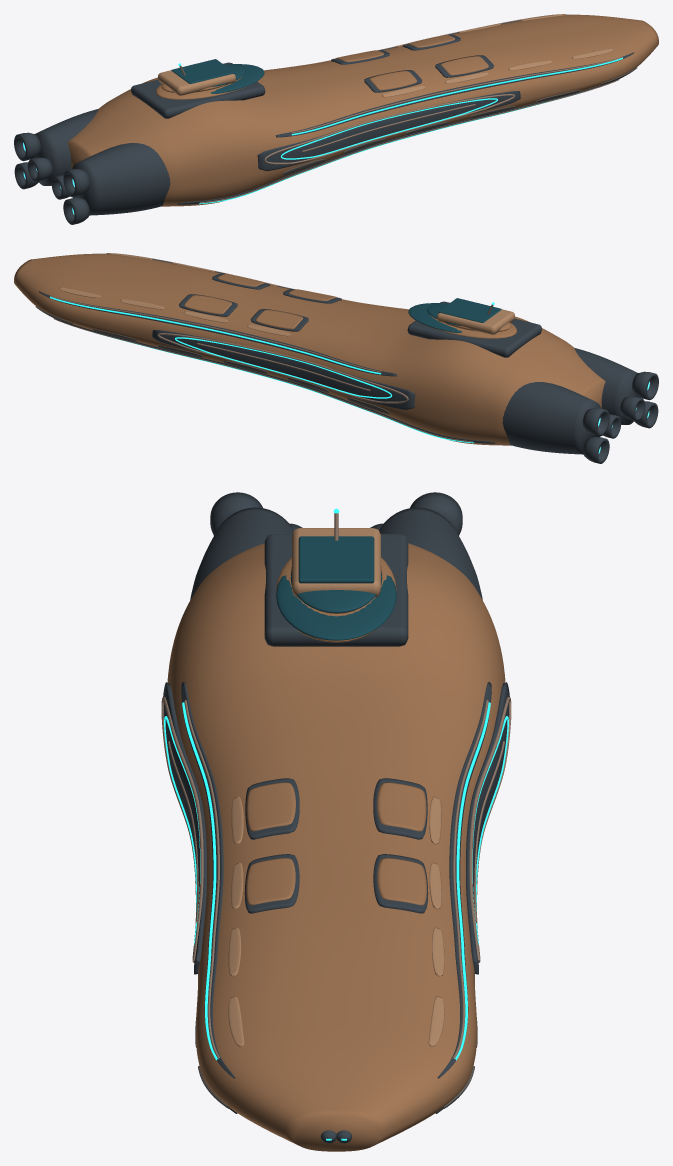
Rendered from artillery-dreadnought.glb.
3 views of the same model, one above another, from view 1: azimuth 30°, elevation 25°; view 2: azimuth 150°, elevation 25°; view 3: azimuth 270°, elevation 25° (orthographic). The views are drawn at different scales.
Visible parts, largest first — view 1: Continuous pressure hull, Aft propulsion / integrated nacelle, Lateral artillery recess / contoured housing, Aft propulsion / integrated nacelle.001, Bridge / stepped armor deck, Upper data conduit / seated channel, Lateral artillery recess / bronze bezel, Bridge / armored watch deck, Bridge / observation belt, Lower data conduit / seated channel, Lateral artillery recess / cyan inset, Upper data conduit / cyan inset (+16 smaller); view 2: Continuous pressure hull, Aft propulsion / integrated nacelle.001, Lateral artillery recess / contoured housing.001, Aft propulsion / integrated nacelle, Bridge / stepped armor deck, Upper data conduit / seated channel.001, Lateral artillery recess / bronze bezel.001, Bridge / armored watch deck, Bridge / observation belt, Lower data conduit / seated channel.001, Lateral artillery recess / cyan inset.001, Upper data conduit / cyan inset.001 (+16 smaller); view 3: Continuous pressure hull, Bridge / stepped armor deck, Bridge / observation belt, Bridge / glazing, Aft propulsion / integrated nacelle, Aft propulsion / integrated nacelle.001, Lateral artillery recess / contoured housing.001, Lateral artillery recess / contoured housing, Upper data conduit / seated channel, Upper data conduit / seated channel.001, Bridge / armored watch deck, VLS bank / shutter (+14 smaller).
Part boxes in pixels (x1=…): Continuous pressure hull: x1=67, y1=14, x2=658, y2=206; Aft propulsion / integrated nacelle: x1=72, y1=143, x2=170, y2=215; Lateral artillery recess / contoured housing: x1=257, y1=91, x2=520, y2=171; Aft propulsion / integrated nacelle.001: x1=31, y1=109, x2=98, y2=185; Bridge / stepped armor deck: x1=131, y1=62, x2=265, y2=118; Upper data conduit / seated channel: x1=275, y1=52, x2=633, y2=137; Lateral artillery recess / bronze bezel: x1=264, y1=94, x2=515, y2=164; Bridge / armored watch deck: x1=158, y1=70, x2=235, y2=95; Bridge / observation belt: x1=171, y1=59, x2=234, y2=83; Lower data conduit / seated channel: x1=177, y1=79, x2=618, y2=204; Lateral artillery recess / cyan inset: x1=281, y1=98, x2=497, y2=159; Upper data conduit / cyan inset: x1=291, y1=57, x2=622, y2=135; Continuous pressure hull: x1=14, y1=253, x2=605, y2=445; Aft propulsion / integrated nacelle.001: x1=502, y1=382, x2=600, y2=454; Lateral artillery recess / contoured housing.001: x1=152, y1=330, x2=415, y2=410; Aft propulsion / integrated nacelle: x1=574, y1=348, x2=641, y2=424; Bridge / stepped armor deck: x1=407, y1=301, x2=541, y2=357; Upper data conduit / seated channel.001: x1=39, y1=291, x2=397, y2=376; Lateral artillery recess / bronze bezel.001: x1=157, y1=333, x2=408, y2=403; Bridge / armored watch deck: x1=437, y1=309, x2=514, y2=334; Bridge / observation belt: x1=438, y1=298, x2=501, y2=322; Lower data conduit / seated channel.001: x1=54, y1=318, x2=495, y2=443; Lateral artillery recess / cyan inset.001: x1=175, y1=337, x2=391, y2=398; Upper data conduit / cyan inset.001: x1=50, y1=296, x2=381, y2=374; Continuous pressure hull: x1=167, y1=543, x2=505, y2=1151; Bridge / stepped armor deck: x1=264, y1=534, x2=408, y2=646; Bridge / observation belt: x1=298, y1=536, x2=374, y2=583; Bridge / glazing: x1=276, y1=575, x2=396, y2=640; Aft propulsion / integrated nacelle: x1=190, y1=507, x2=293, y2=599; Aft propulsion / integrated nacelle.001: x1=379, y1=507, x2=482, y2=599; Lateral artillery recess / contoured housing.001: x1=466, y1=682, x2=509, y2=974; Lateral artillery recess / contoured housing: x1=163, y1=682, x2=206, y2=974; Upper data conduit / seated channel: x1=181, y1=682, x2=235, y2=1078; Upper data conduit / seated channel.001: x1=437, y1=682, x2=491, y2=1078; Bridge / armored watch deck: x1=292, y1=528, x2=380, y2=597; VLS bank / shutter: x1=377, y1=782, x2=426, y2=831.
Bounding box in the file's own units: 900 × 181 × 225.
